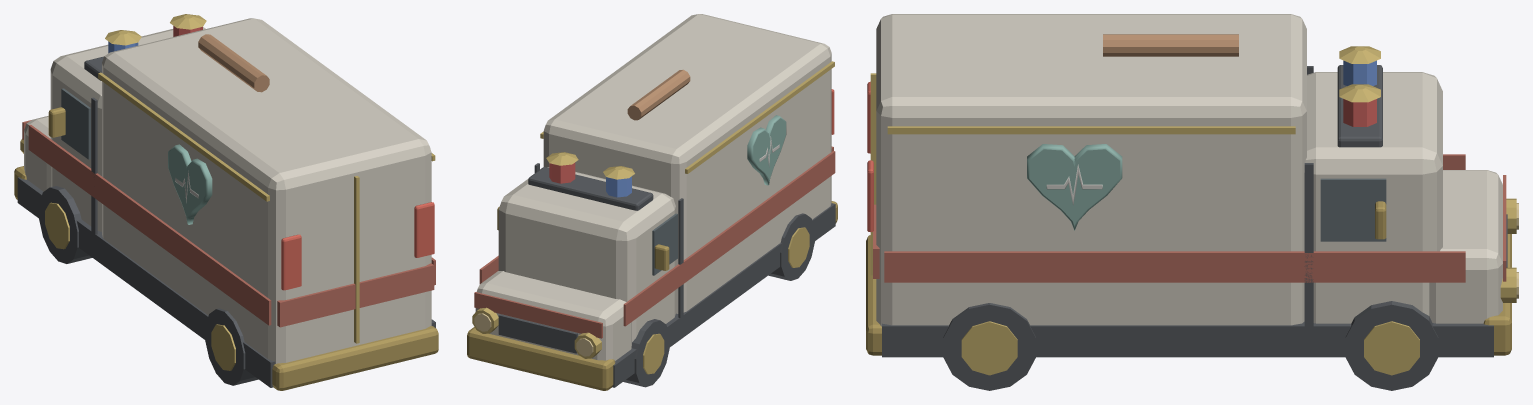
The model's file is noturno-amb.glb.
3 renders of one model, left to right at view 1: azimuth 30°, elevation 25°; view 2: azimuth 150°, elevation 25°; view 3: azimuth 270°, elevation 25°, orthographic. The views are drawn at different scales.
Visible parts, largest first — view 1: centro_ambulancia_body, centro_ambulancia_lamp, centro_ambulancia_glow; view 2: centro_ambulancia_body, centro_ambulancia_glow, centro_ambulancia_lamp; view 3: centro_ambulancia_body, centro_ambulancia_glow, centro_ambulancia_lamp.
Boxes of the visible parts, x1=… form: centro_ambulancia_body: x1=14, y1=14, x2=438, y2=390; centro_ambulancia_lamp: x1=108, y1=26, x2=434, y2=290; centro_ambulancia_glow: x1=168, y1=144, x2=212, y2=224; centro_ambulancia_body: x1=467, y1=14, x2=837, y2=390; centro_ambulancia_glow: x1=747, y1=115, x2=786, y2=185; centro_ambulancia_lamp: x1=474, y1=89, x2=834, y2=356; centro_ambulancia_body: x1=866, y1=14, x2=1516, y2=390; centro_ambulancia_glow: x1=1027, y1=144, x2=1122, y2=230; centro_ambulancia_lamp: x1=867, y1=60, x2=1518, y2=298.
Size of the model in its own units: 2.4 by 2.98 by 5.76.
